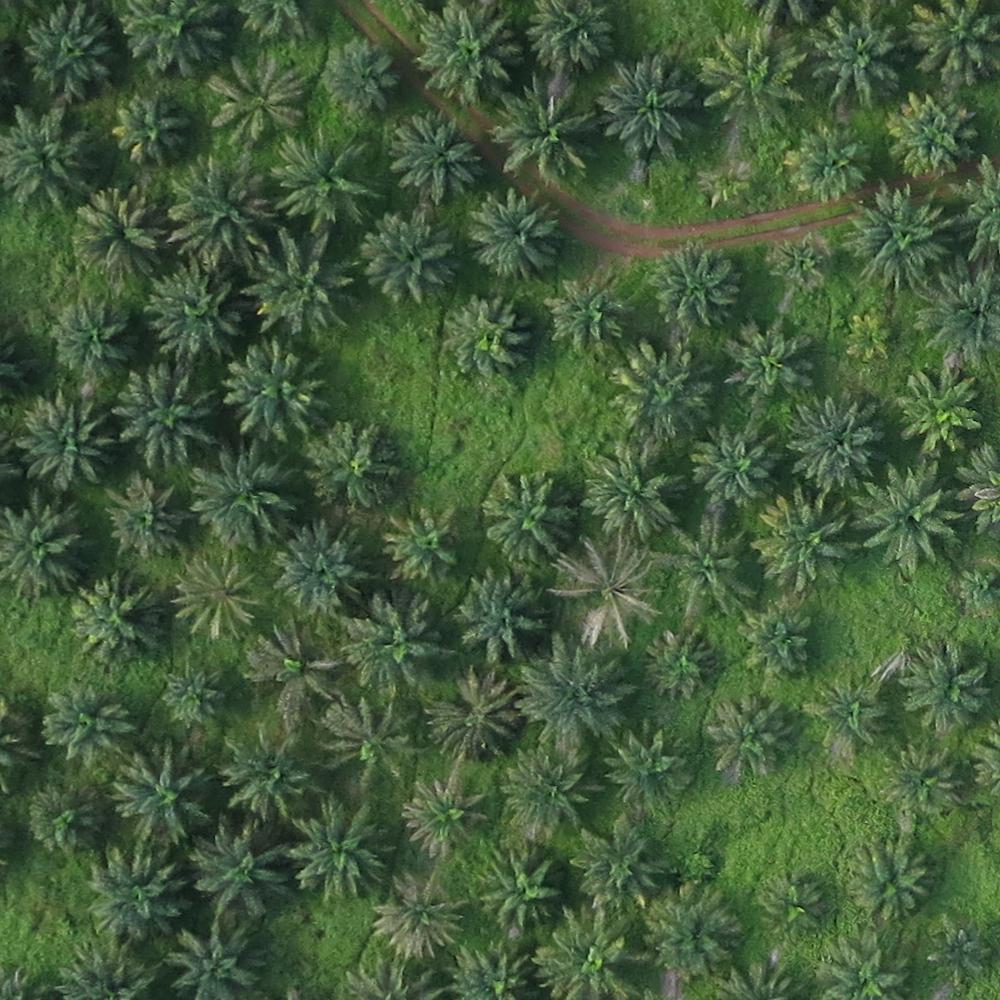Palm: (517, 638, 627, 747), (248, 226, 358, 334), (165, 160, 273, 268), (495, 76, 599, 188), (284, 795, 387, 900), (417, 5, 528, 101), (853, 467, 957, 569), (478, 472, 588, 567), (239, 625, 341, 727), (704, 25, 804, 128), (195, 452, 298, 551), (584, 438, 685, 538), (756, 488, 853, 592), (139, 262, 245, 357), (18, 393, 119, 492), (614, 343, 716, 441), (225, 340, 321, 444), (2, 104, 97, 209), (555, 542, 661, 636), (88, 848, 186, 949), (192, 819, 292, 917), (601, 61, 704, 156), (275, 128, 375, 225), (340, 598, 449, 684), (316, 691, 413, 786), (298, 422, 398, 513), (911, 272, 1000, 374), (851, 190, 947, 284), (122, 371, 217, 465), (640, 885, 735, 979), (468, 843, 564, 935), (210, 52, 310, 140), (802, 10, 897, 101), (470, 190, 566, 280), (666, 518, 755, 615), (647, 243, 742, 333), (112, 751, 212, 836), (358, 212, 452, 302), (570, 824, 664, 914), (388, 114, 483, 202), (71, 191, 164, 280), (499, 749, 587, 843), (457, 567, 542, 664), (218, 731, 311, 819), (896, 639, 984, 732), (536, 914, 634, 997), (73, 574, 163, 664), (21, 7, 114, 94), (427, 669, 517, 758), (721, 323, 812, 411), (790, 398, 882, 485), (374, 877, 467, 962), (277, 528, 366, 616), (600, 725, 689, 813), (690, 418, 781, 504), (401, 775, 492, 861), (912, 5, 999, 91), (895, 371, 980, 459), (2, 501, 82, 594), (170, 924, 270, 997), (40, 684, 130, 765), (440, 299, 530, 380), (47, 295, 137, 375), (549, 274, 635, 357), (889, 96, 974, 179), (851, 834, 932, 921), (806, 677, 889, 759), (527, 1, 615, 78), (705, 696, 792, 773), (784, 125, 866, 204), (175, 555, 257, 633), (104, 475, 184, 551), (319, 39, 398, 115), (381, 506, 458, 583), (738, 607, 818, 681), (112, 94, 190, 167), (885, 748, 964, 819), (30, 785, 107, 857), (753, 875, 832, 942), (642, 630, 717, 697), (161, 660, 228, 723), (932, 921, 991, 984)
